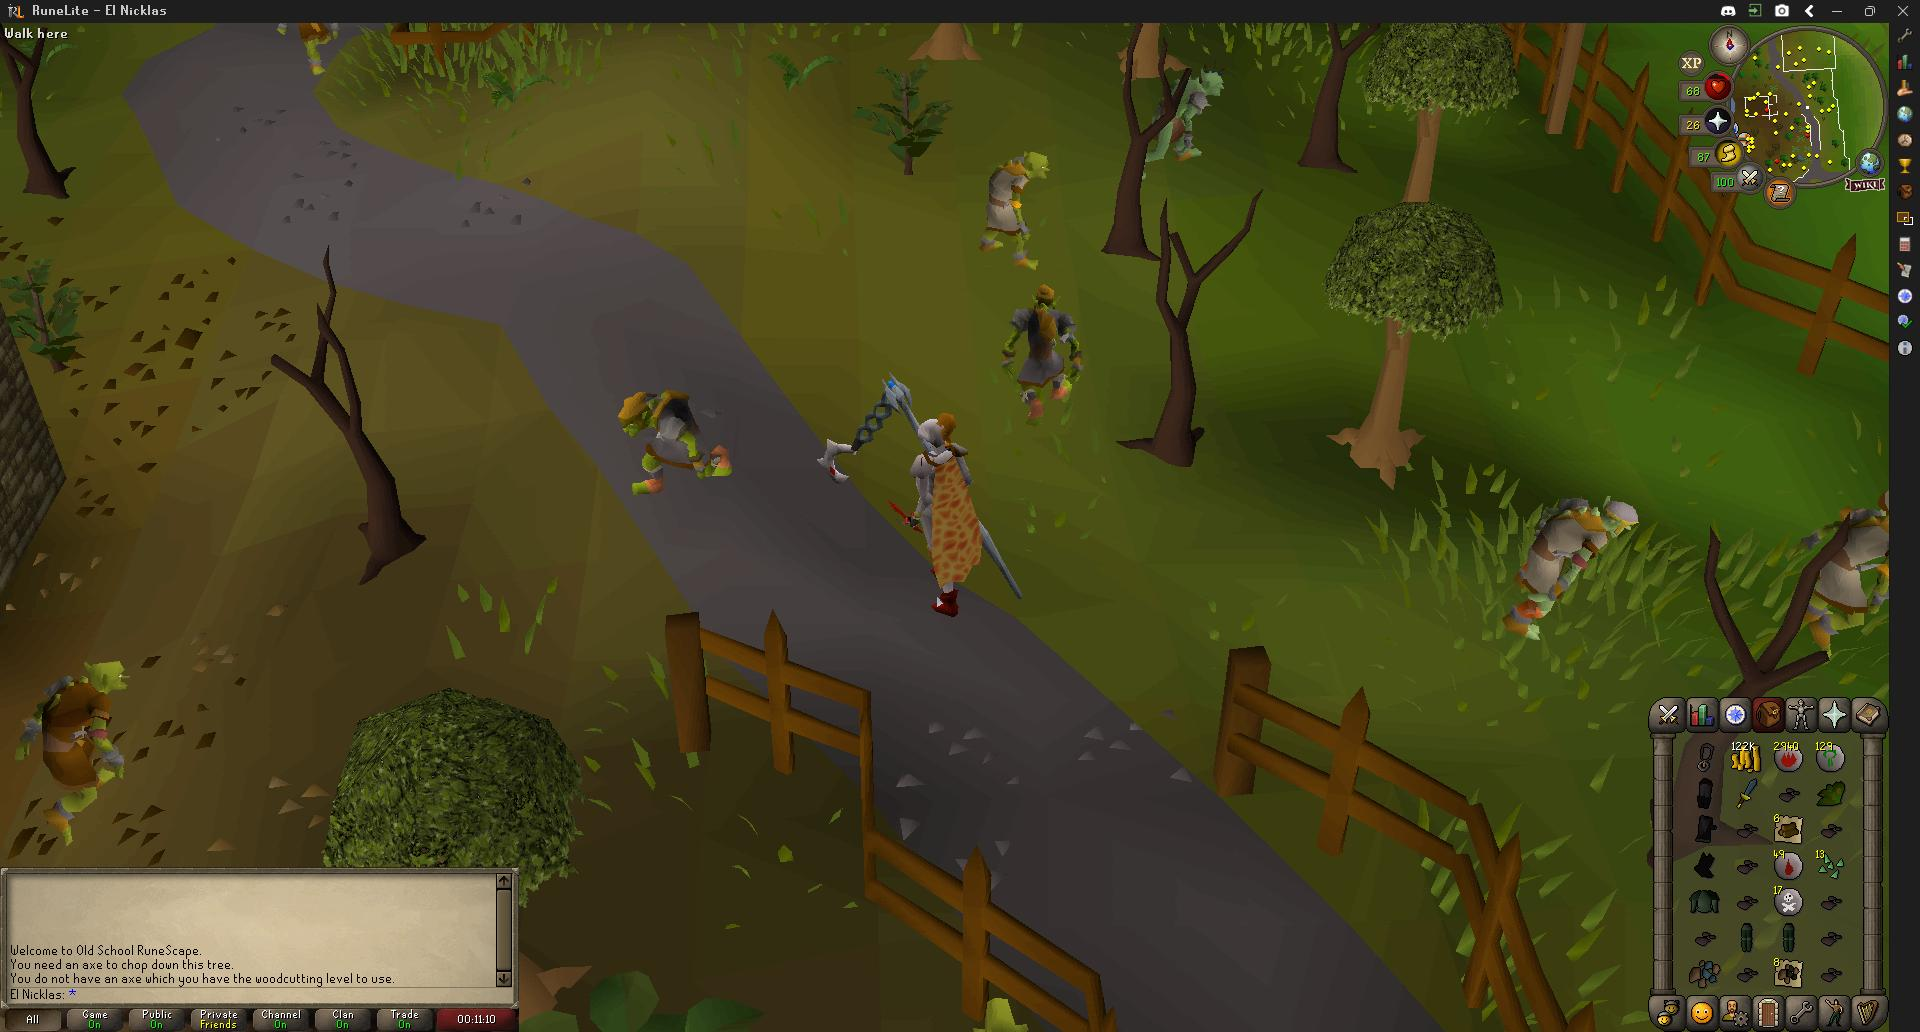Player: (904, 412, 982, 620)
goblin: (17, 660, 132, 842), (1788, 488, 1889, 649), (1004, 282, 1081, 416), (1144, 67, 1224, 170), (973, 153, 1040, 268), (618, 388, 702, 467), (280, 22, 341, 72)
